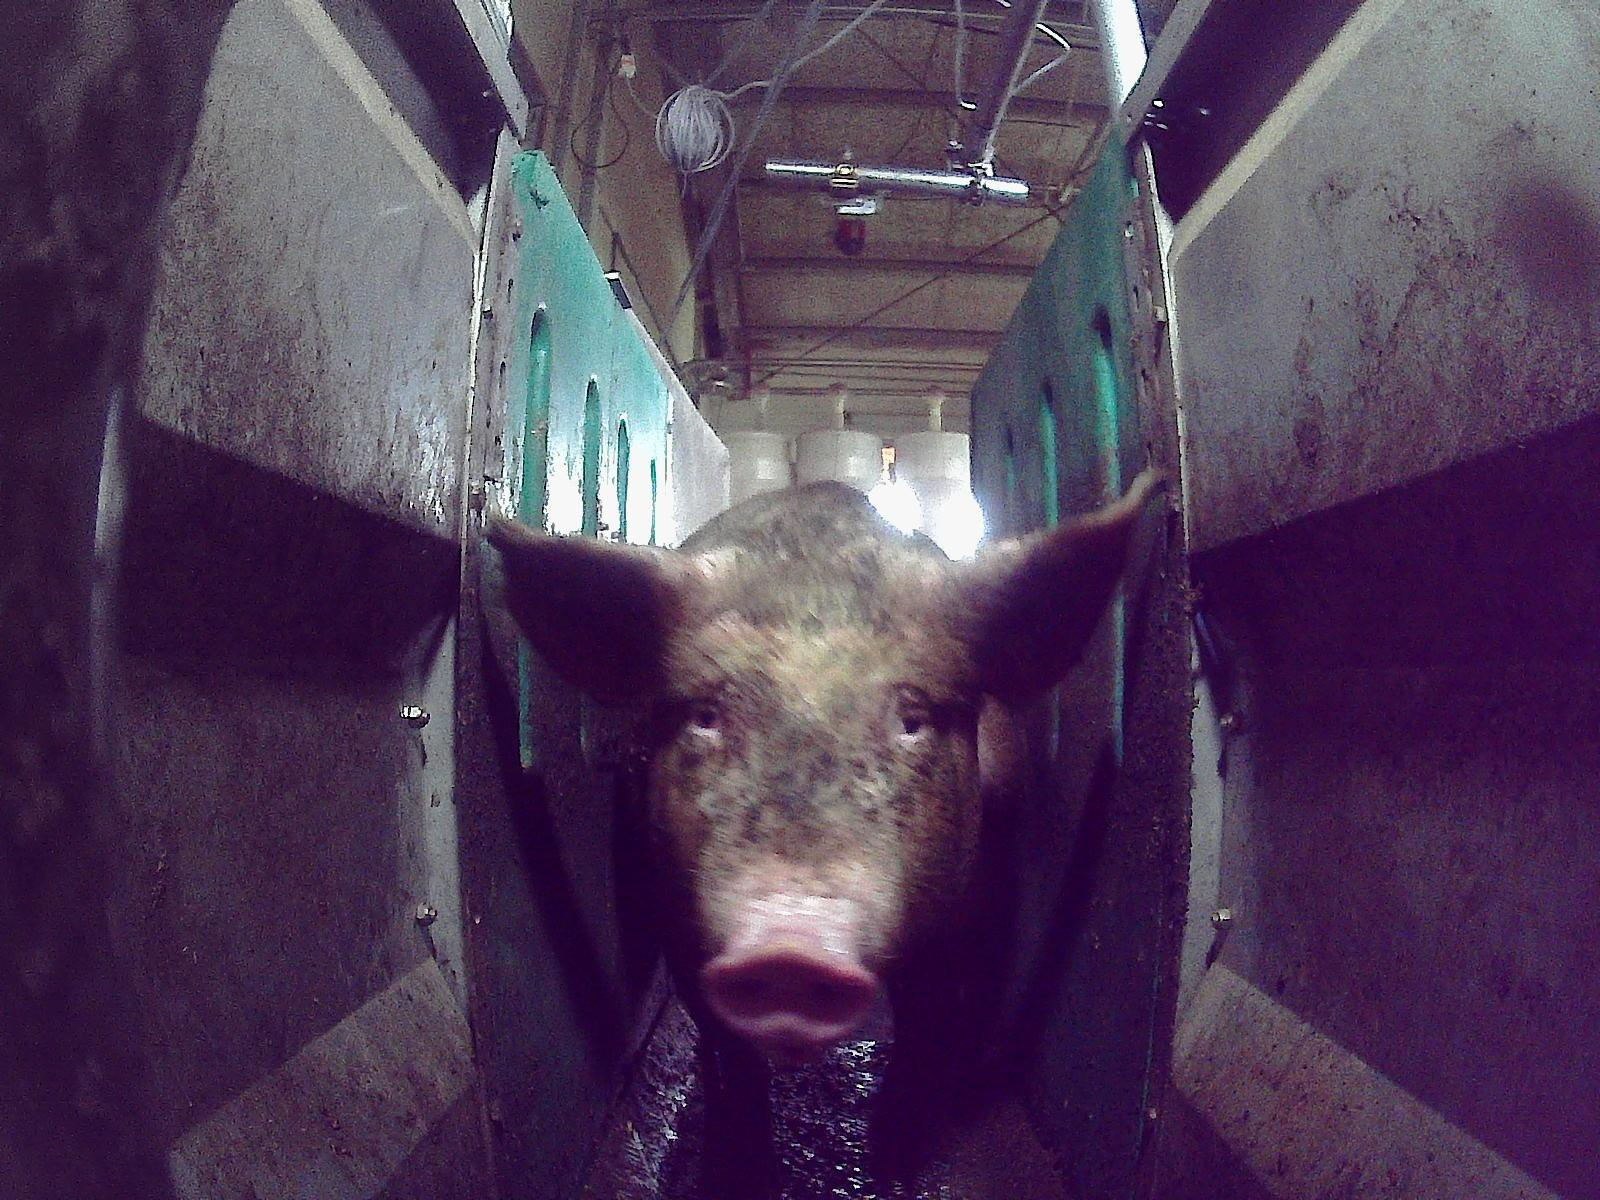Face: (647, 560, 969, 1044)
